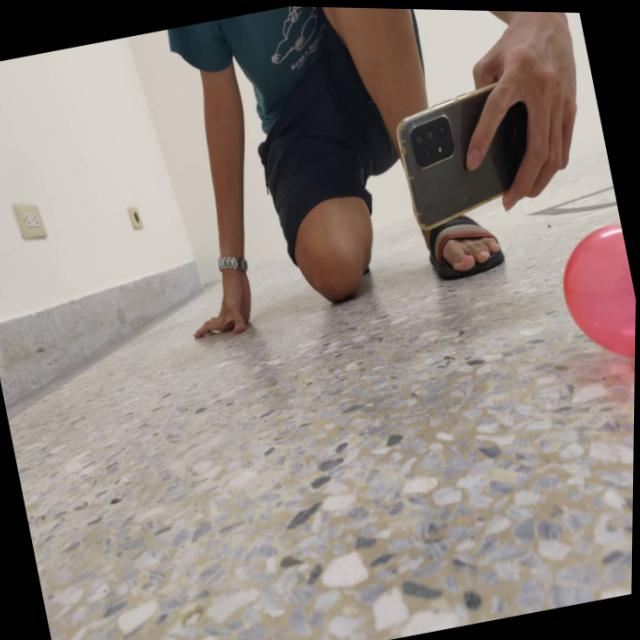red: (550, 215, 638, 370)
